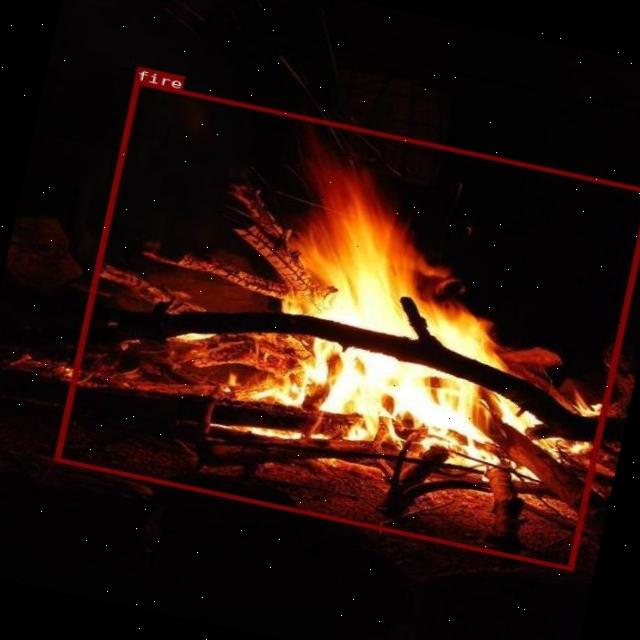fire: (52, 79, 640, 570)
